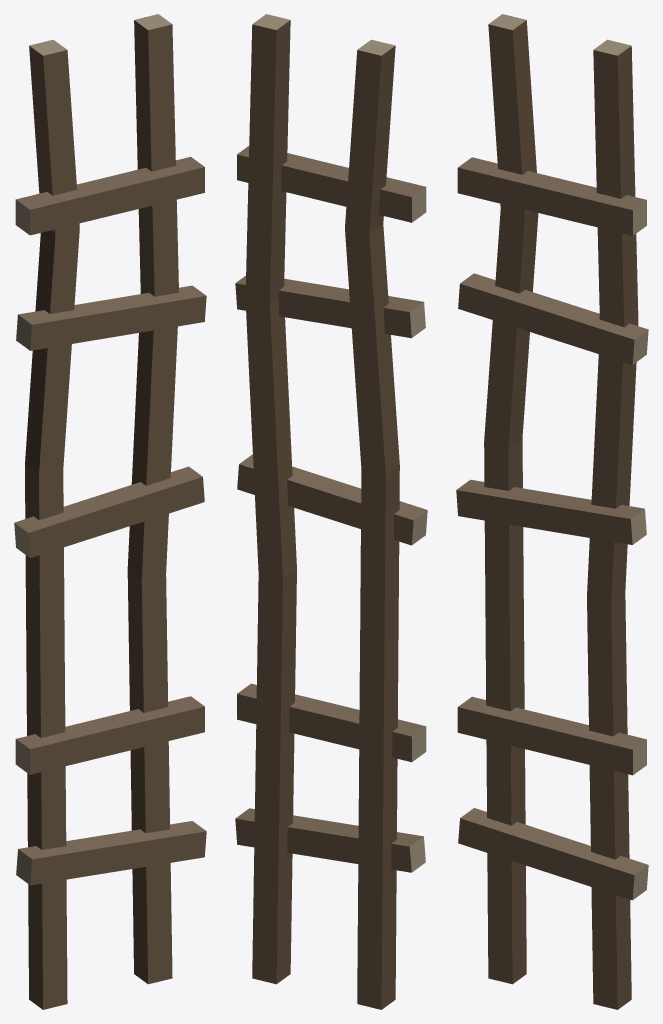
Rendered from SD_Prop_Goblin_Ladder_02.fbx.
3 renders of one model, left to right at view 1: azimuth 30°, elevation 25°; view 2: azimuth 150°, elevation 25°; view 3: azimuth 330°, elevation 25°, orthographic.
Parts seen in each view (by area): view 1: SD_Prop_Goblin_Ladder_02; view 2: SD_Prop_Goblin_Ladder_02; view 3: SD_Prop_Goblin_Ladder_02.
Boxes of the visible parts, x1=… form: SD_Prop_Goblin_Ladder_02: x1=14, y1=14, x2=206, y2=1009; SD_Prop_Goblin_Ladder_02: x1=235, y1=14, x2=427, y2=1009; SD_Prop_Goblin_Ladder_02: x1=456, y1=14, x2=648, y2=1009.
Bounding box in the file's own units: 1.53 × 7.8 × 0.3371.
